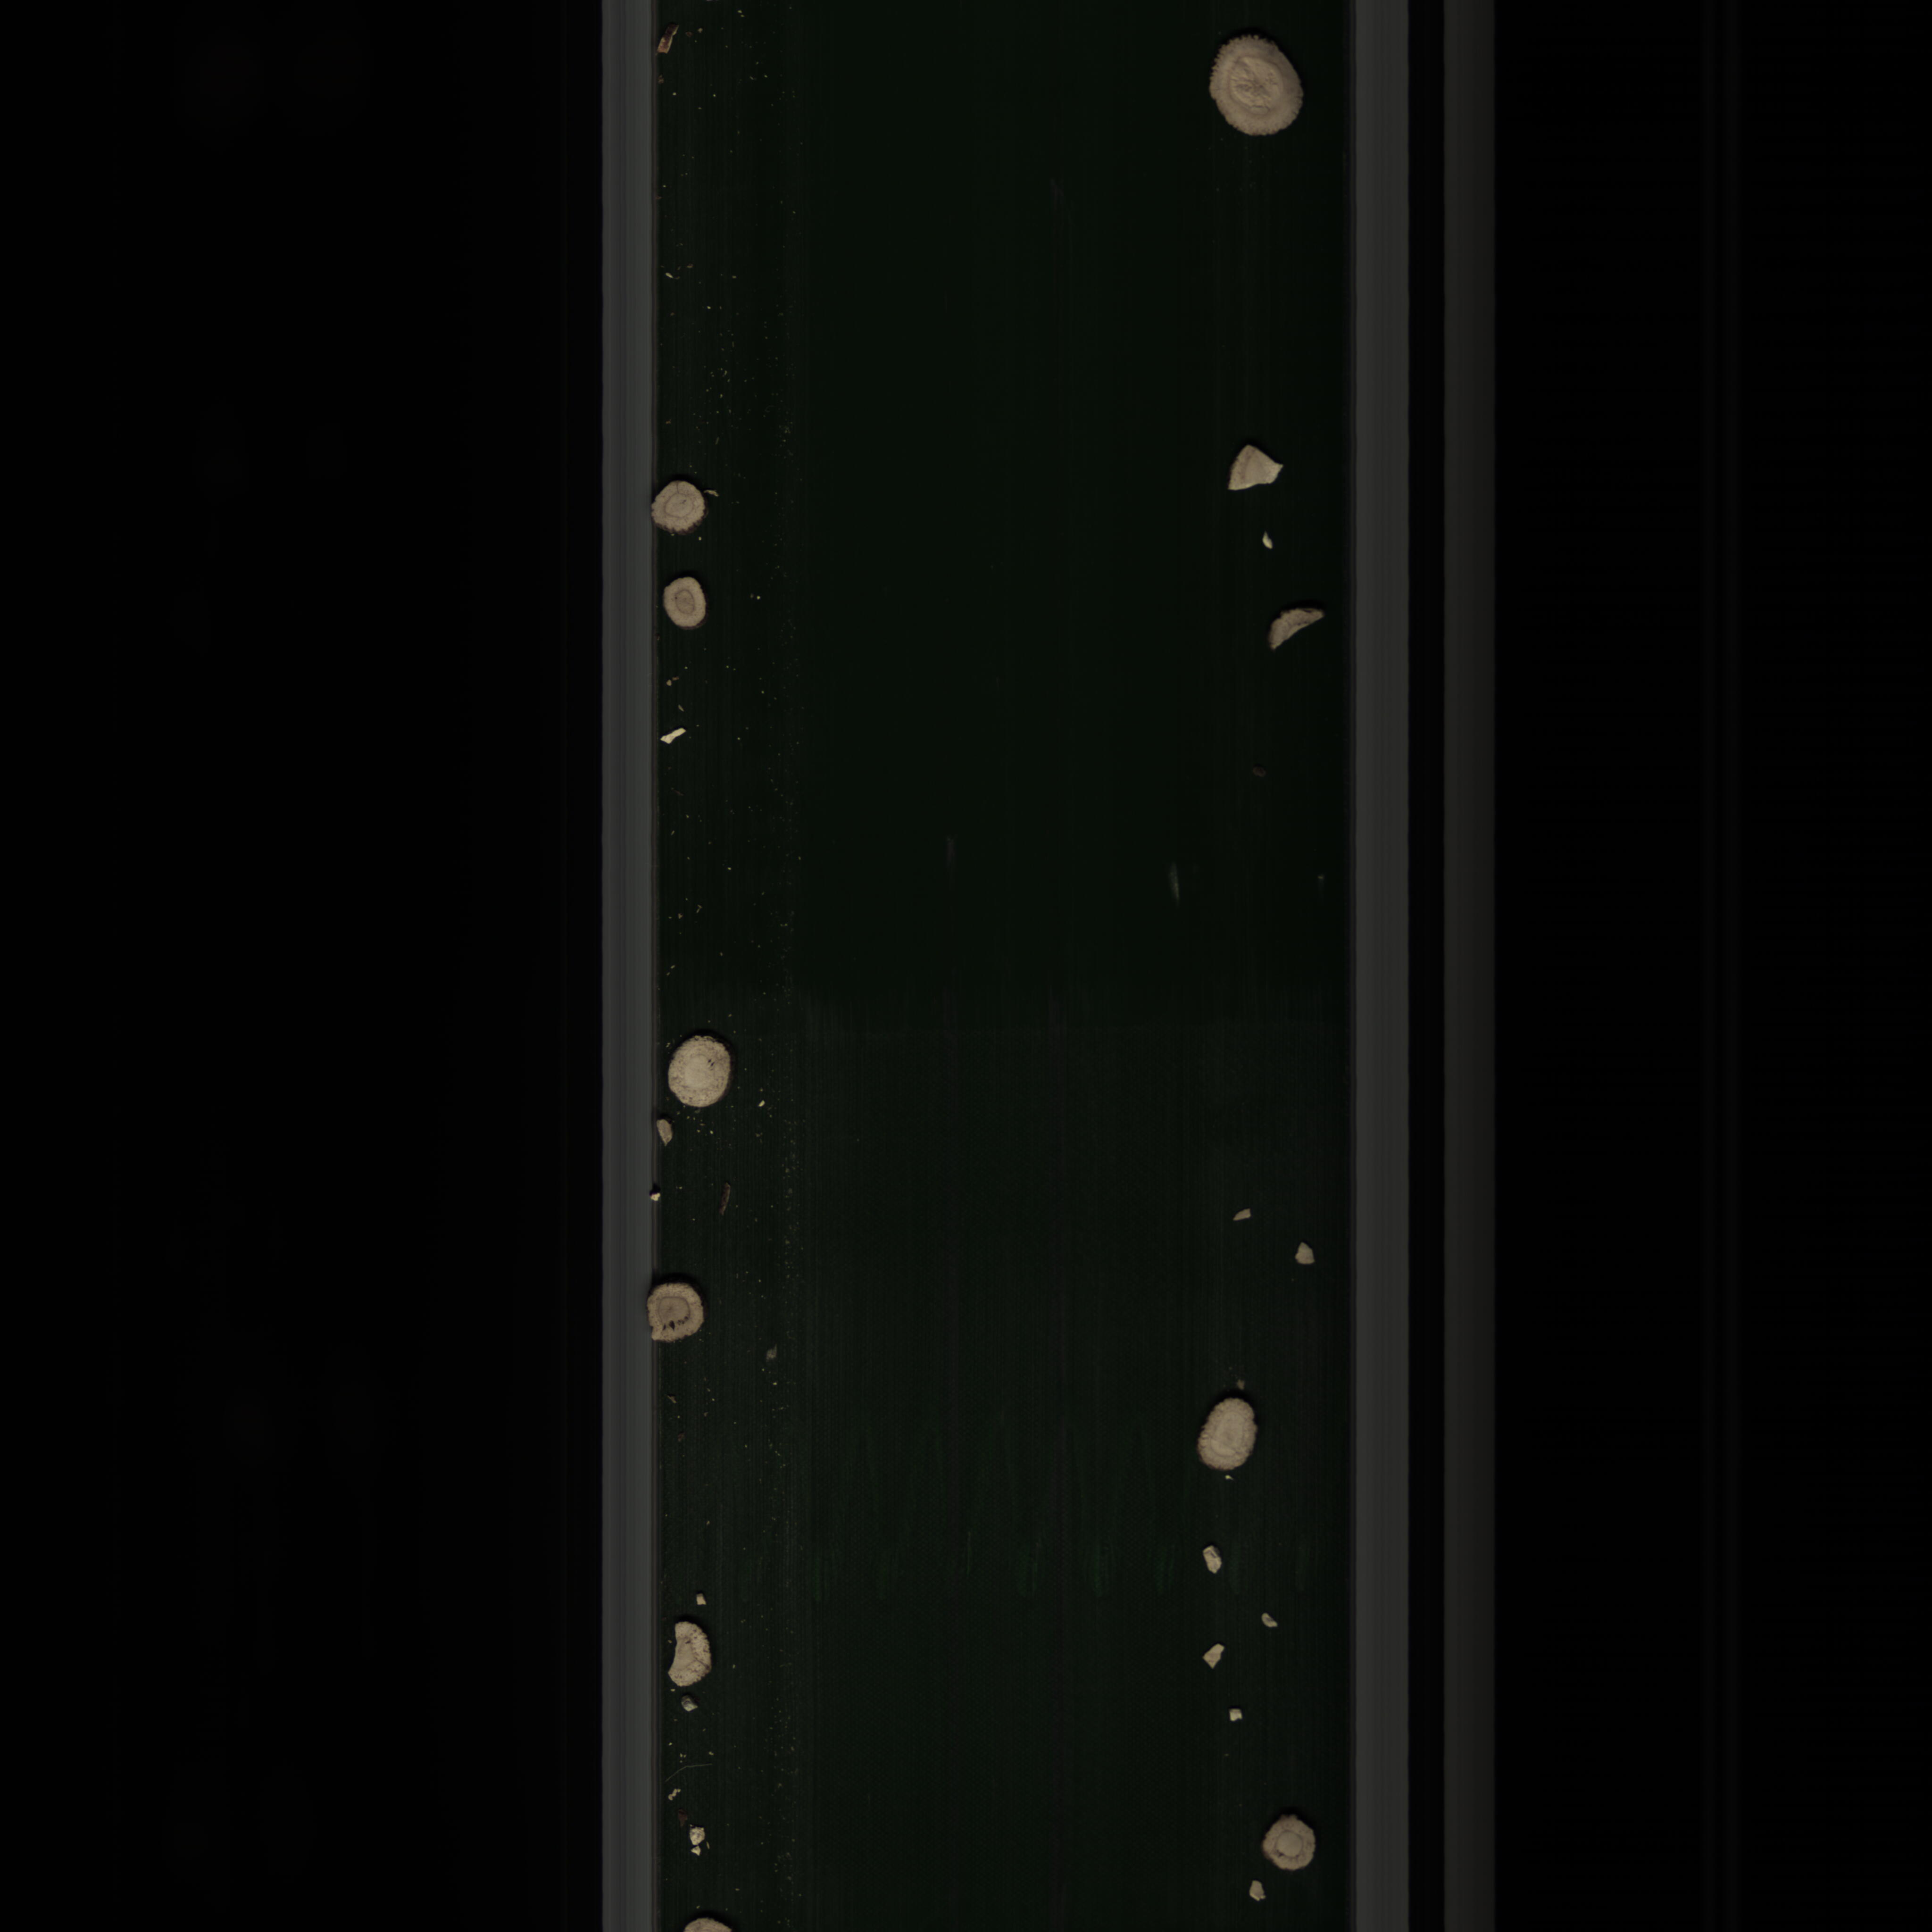debris: (1221, 437, 1290, 502), (1265, 598, 1336, 651), (669, 1619, 722, 1686), (1187, 1536, 1233, 1576), (1200, 1637, 1231, 1670)
moldy: (644, 1277, 709, 1345), (658, 573, 708, 633)
